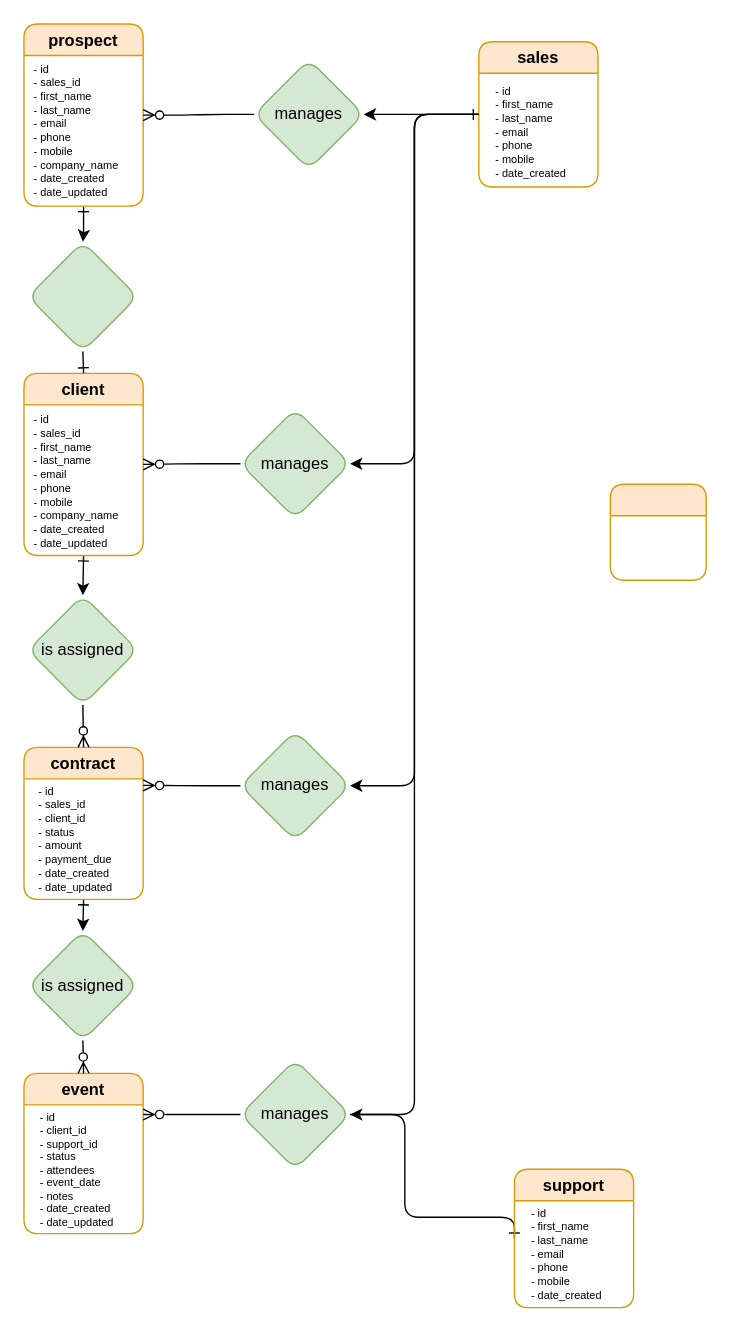
Image size: 730x1332. Some labels were removed from this diagram. Here are the shapes that lost their labels. From the top down, the centre of each, then its label:
At (x=82, y=295): "become".
At (x=657, y=531): "admin".
